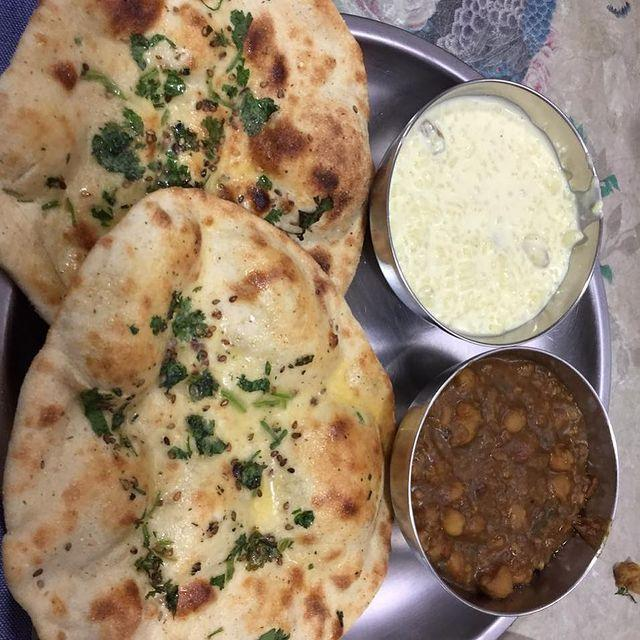Chole: (437, 383, 595, 597)
